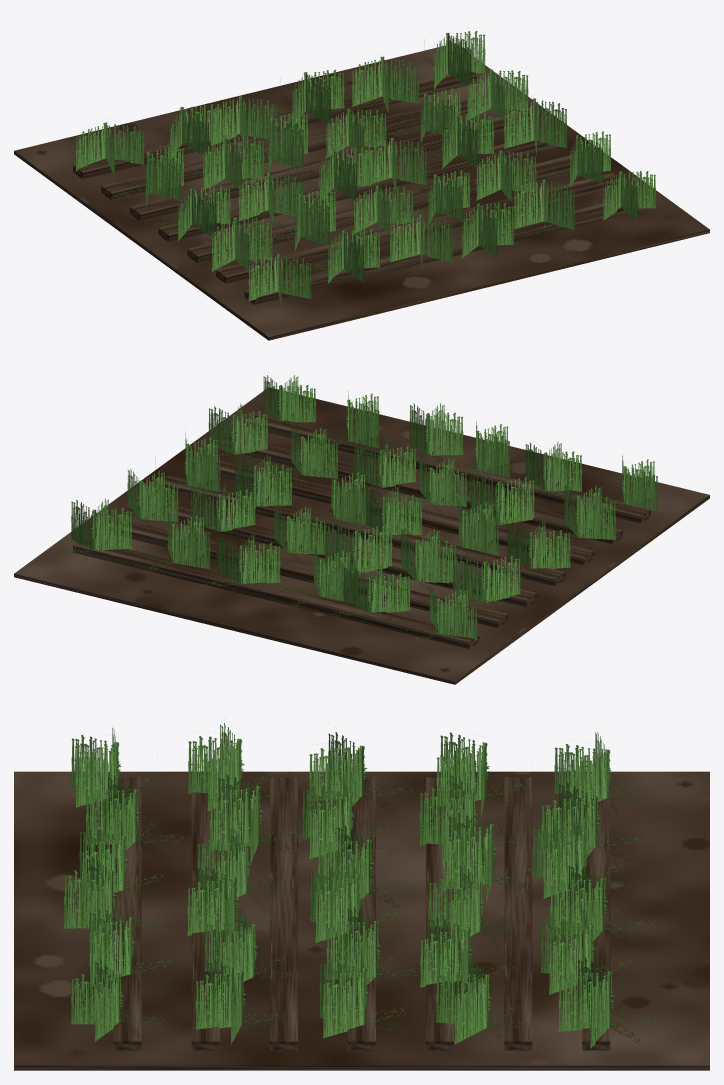
File: nodo-farm-e5-Cte5g6G1.glb
3 renders of one model, top to bottom at view 1: azimuth 30°, elevation 25°; view 2: azimuth 150°, elevation 25°; view 3: azimuth 270°, elevation 25°, orthographic. The views are drawn at different scales.
Visible parts, largest first — view 1: suelo_y_surcos, cultivo; view 2: suelo_y_surcos, cultivo; view 3: suelo_y_surcos, cultivo.
Boxes of the visible parts, <box> form: suelo_y_surcos: <box>14,43,709,340</box>; cultivo: <box>67,31,655,306</box>; suelo_y_surcos: <box>14,387,709,684</box>; cultivo: <box>57,375,657,648</box>; suelo_y_surcos: <box>14,771,709,1070</box>; cultivo: <box>64,723,660,1048</box>.
Bounding box in the file's own units: 47.2 × 5.77 × 47.2.
2 materials, 2 textured.
